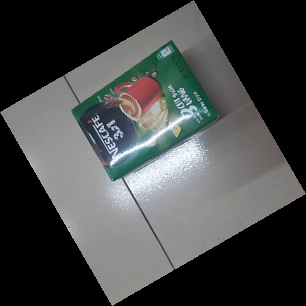Nes Rang: (70, 39, 220, 182)
